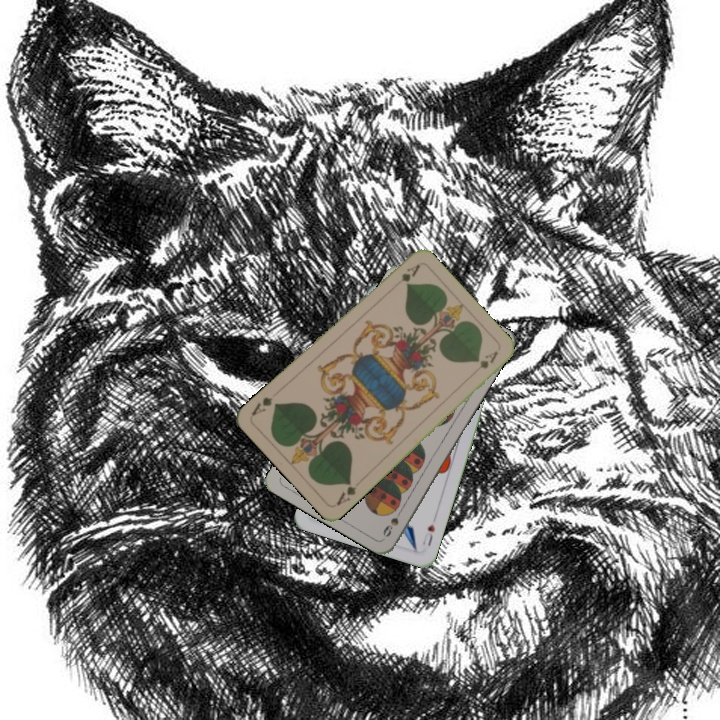GA: (388, 260, 422, 292), (332, 477, 359, 508)
HU: (419, 520, 437, 549)
S9: (379, 503, 406, 540)
